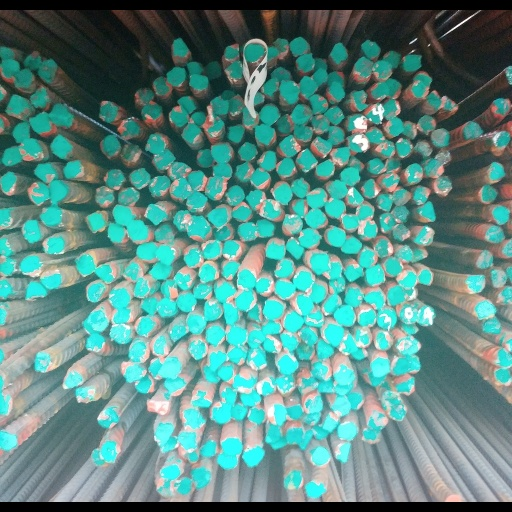dipstick: (39, 202, 69, 229), (17, 133, 49, 158), (305, 248, 333, 276), (268, 175, 295, 203), (143, 198, 171, 225), (48, 128, 75, 156), (5, 85, 33, 112), (26, 177, 52, 205), (13, 58, 39, 86), (206, 199, 231, 228), (105, 285, 131, 312), (48, 95, 74, 122), (223, 325, 251, 350), (80, 280, 108, 305), (395, 336, 424, 360), (10, 112, 34, 141), (296, 224, 322, 250), (46, 175, 71, 202), (261, 300, 289, 324), (74, 249, 97, 278), (186, 213, 212, 238), (169, 172, 194, 198), (84, 207, 109, 233), (321, 323, 345, 350), (244, 352, 271, 376), (126, 217, 153, 241), (169, 205, 196, 229), (181, 414, 209, 437), (148, 260, 176, 283), (95, 411, 123, 434), (41, 231, 69, 254), (262, 235, 287, 260), (155, 241, 180, 266), (29, 104, 54, 129), (281, 211, 305, 237), (292, 291, 316, 317), (267, 407, 291, 433), (105, 219, 129, 245), (38, 267, 64, 291), (20, 217, 44, 243), (355, 246, 382, 269), (111, 201, 138, 224), (32, 351, 54, 379), (121, 365, 150, 386), (415, 305, 439, 330), (332, 366, 356, 391), (298, 374, 322, 399), (275, 355, 300, 379), (273, 278, 297, 303), (241, 452, 265, 477), (152, 483, 177, 507), (186, 339, 210, 364), (132, 316, 157, 340), (127, 163, 152, 187), (122, 259, 147, 283), (60, 370, 84, 395), (32, 158, 62, 178), (275, 129, 301, 152), (257, 195, 283, 218), (190, 474, 213, 500), (108, 325, 134, 348), (303, 206, 330, 228), (154, 299, 181, 321), (97, 444, 119, 471), (308, 280, 329, 308), (244, 185, 268, 209), (151, 426, 175, 450), (129, 341, 153, 365), (174, 291, 198, 315), (200, 237, 224, 261), (102, 164, 126, 188), (346, 126, 371, 149), (320, 295, 343, 320), (148, 171, 171, 196), (20, 253, 43, 278), (1, 138, 24, 163), (347, 80, 369, 106), (430, 173, 456, 195), (205, 171, 227, 197), (30, 77, 52, 103), (279, 71, 300, 98), (339, 235, 366, 256), (231, 375, 258, 396), (1, 434, 22, 461), (211, 135, 235, 158), (273, 152, 297, 175), (324, 222, 347, 246), (332, 306, 356, 329), (209, 406, 233, 429), (212, 278, 235, 302), (87, 453, 110, 477), (0, 165, 19, 194), (260, 95, 282, 120), (295, 143, 317, 168), (308, 452, 333, 474), (281, 312, 306, 334), (186, 313, 208, 338), (235, 289, 257, 314), (23, 281, 48, 303), (36, 49, 57, 75), (134, 241, 161, 261), (108, 308, 136, 327), (291, 97, 314, 120), (289, 174, 312, 197), (236, 219, 259, 242), (473, 248, 496, 271), (168, 321, 191, 344), (94, 182, 117, 205), (153, 219, 176, 242), (97, 94, 121, 116), (144, 126, 166, 150), (140, 94, 164, 116), (170, 28, 192, 52), (288, 27, 312, 49), (342, 286, 364, 310), (384, 283, 406, 307), (376, 310, 398, 334), (362, 369, 386, 391), (272, 258, 296, 280), (311, 362, 333, 386), (190, 390, 212, 414), (162, 360, 184, 384), (117, 183, 141, 205), (370, 357, 391, 382), (331, 399, 352, 424), (203, 299, 224, 324), (158, 276, 179, 301), (100, 129, 120, 155), (151, 336, 171, 362), (117, 112, 140, 134), (164, 57, 186, 80), (415, 199, 438, 221), (413, 223, 436, 245), (255, 215, 277, 238), (464, 274, 487, 296), (322, 259, 344, 282), (354, 308, 377, 330), (337, 336, 359, 359), (275, 379, 297, 402), (222, 443, 245, 465), (200, 367, 223, 389), (226, 347, 248, 370), (62, 154, 85, 176), (169, 98, 190, 122), (284, 235, 305, 259), (373, 236, 394, 260), (304, 488, 328, 509), (473, 301, 497, 322), (302, 397, 326, 418), (380, 257, 405, 277), (315, 340, 335, 365), (183, 242, 203, 267), (96, 260, 116, 285), (153, 444, 180, 462), (359, 29, 381, 51), (403, 158, 425, 180), (343, 262, 365, 284), (394, 380, 416, 402), (263, 428, 285, 450), (223, 238, 245, 260), (249, 163, 270, 186), (462, 113, 483, 136), (377, 210, 398, 233), (231, 200, 254, 221), (363, 290, 386, 311), (298, 327, 319, 350), (217, 458, 240, 479), (205, 327, 226, 350), (163, 381, 186, 402), (198, 261, 221, 282), (76, 390, 99, 411), (298, 68, 318, 92), (168, 156, 192, 176), (346, 108, 370, 128), (324, 176, 348, 196), (255, 382, 279, 402), (146, 400, 170, 420), (216, 368, 240, 388), (192, 282, 216, 302), (246, 326, 265, 351), (150, 69, 172, 90), (222, 53, 244, 74), (293, 44, 315, 65), (176, 86, 198, 107), (181, 117, 202, 139), (152, 144, 174, 165), (329, 141, 350, 163), (371, 52, 393, 73), (417, 107, 438, 129), (423, 154, 445, 175), (339, 162, 361, 183), (357, 217, 378, 239), (134, 378, 156, 399), (87, 310, 108, 332), (185, 165, 206, 187), (132, 277, 154, 298), (122, 139, 142, 162), (235, 157, 255, 180), (490, 90, 510, 113), (306, 183, 326, 206), (483, 222, 506, 242), (321, 416, 341, 439), (293, 268, 313, 291), (178, 438, 201, 458), (172, 269, 195, 289), (352, 48, 371, 72), (354, 329, 373, 353), (238, 395, 262, 414), (309, 430, 334, 448), (133, 79, 154, 100), (254, 118, 275, 139), (310, 130, 331, 151), (366, 120, 387, 141), (431, 122, 452, 143), (361, 175, 382, 196), (338, 427, 359, 448), (282, 478, 303, 499), (325, 74, 345, 96), (365, 96, 385, 118), (401, 44, 423, 64), (395, 132, 415, 154), (392, 359, 412, 381), (248, 410, 268, 432), (85, 335, 107, 355), (329, 33, 348, 56), (489, 267, 508, 290), (393, 242, 412, 265), (395, 270, 418, 289), (333, 449, 352, 472), (212, 223, 235, 242), (159, 470, 183, 488), (148, 361, 165, 386), (210, 89, 230, 110), (239, 137, 260, 157), (309, 87, 329, 108), (324, 99, 344, 120), (309, 107, 329, 128), (383, 113, 404, 133), (324, 196, 345, 216), (373, 333, 393, 354), (198, 444, 218, 465), (256, 275, 276, 296), (257, 146, 276, 168), (224, 181, 246, 200), (407, 73, 429, 92), (415, 133, 434, 155), (368, 414, 387, 436), (281, 334, 300, 356), (243, 34, 266, 52), (277, 107, 295, 130), (385, 70, 403, 93), (326, 277, 349, 295), (238, 267, 256, 290), (139, 295, 162, 313), (186, 189, 209, 207), (1, 49, 19, 72), (227, 87, 244, 111), (364, 153, 388, 170), (0, 205, 15, 232), (369, 74, 389, 94), (284, 432, 304, 452), (263, 337, 283, 357), (21, 41, 41, 61), (378, 169, 399, 188), (356, 197, 375, 218), (288, 195, 309, 214), (410, 245, 431, 264), (415, 267, 434, 288), (399, 306, 418, 327), (363, 434, 384, 453), (205, 110, 223, 132), (426, 82, 444, 104), (345, 184, 363, 206), (211, 159, 234, 176), (221, 33, 241, 52), (293, 120, 313, 139), (490, 124, 510, 143), (392, 184, 412, 203), (345, 397, 364, 417), (296, 346, 315, 366), (175, 485, 194, 505), (189, 66, 210, 84), (478, 181, 499, 199), (340, 210, 361, 228), (261, 321, 282, 339), (231, 407, 249, 428), (222, 303, 240, 324), (441, 87, 458, 109), (482, 320, 504, 337), (304, 312, 326, 329), (226, 119, 245, 138), (382, 41, 401, 60), (383, 93, 402, 112), (384, 151, 403, 170), (218, 389, 237, 408), (221, 259, 240, 278), (316, 154, 334, 174), (412, 62, 432, 80), (488, 158, 506, 178), (411, 182, 431, 200), (382, 395, 402, 413), (207, 352, 227, 370), (268, 442, 289, 459), (80, 320, 101, 337), (262, 70, 278, 92), (328, 119, 344, 141), (196, 144, 214, 163), (312, 61, 330, 80), (435, 144, 454, 162), (393, 221, 410, 241), (299, 437, 316, 457), (269, 58, 293, 72), (406, 357, 422, 378), (490, 373, 511, 389), (1, 257, 17, 278), (243, 103, 258, 125), (204, 52, 222, 70), (490, 203, 508, 221), (349, 150, 367, 168), (376, 135, 395, 152), (391, 204, 410, 221), (388, 411, 407, 428), (318, 383, 337, 400), (272, 28, 288, 48), (285, 410, 306, 425), (402, 286, 420, 303), (495, 352, 512, 370), (0, 36, 17, 54), (402, 115, 417, 135), (190, 105, 208, 121), (351, 350, 369, 366), (496, 287, 512, 305), (301, 418, 323, 431), (326, 64, 345, 79), (377, 190, 392, 209), (187, 52, 205, 67), (312, 48, 330, 62), (219, 80, 236, 93), (266, 35, 277, 55), (501, 237, 512, 252)
